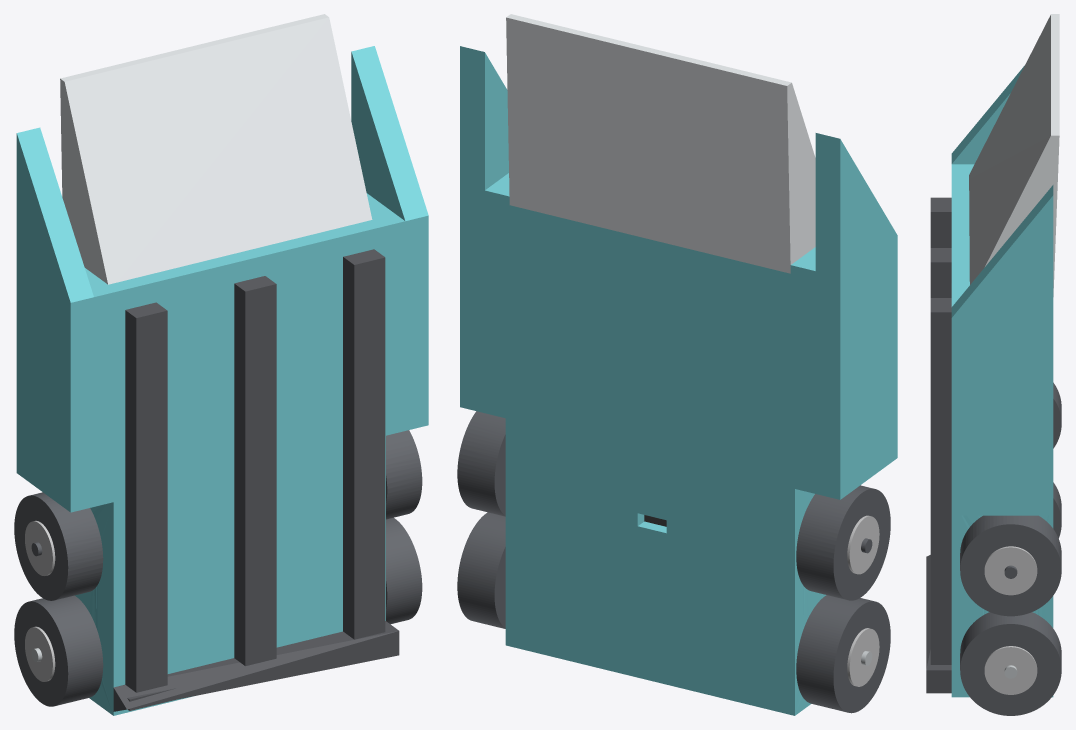
File: bolt.glb
3 views of the same model, side by side, from view 1: azimuth 30°, elevation 25°; view 2: azimuth 150°, elevation 25°; view 3: azimuth 270°, elevation 25° (orthographic). The views are drawn at different scales.
Visible parts, largest first — view 1: chassis, front_flap, rail_a, rail_c, rail_b, cheek_r, cheek_l, rear_bar, wheel_r0, wheel_r1, wheel_l0, wheel_l1 (+2 smaller); view 2: chassis, front_flap, cheek_r, cheek_l, wheel_r0, wheel_r1, wheel_l0, wheel_l1, dt_hub_wheel_r1, dt_hub_wheel_r0; view 3: chassis, cheek_l, front_flap, rail_c, wheel_l1, wheel_l0, dt_hub_wheel_l1, dt_hub_wheel_l0, cheek_r, rear_bar, rail_a, rail_b (+2 smaller).
Boxes of the visible parts, x1,y1,x2,y2 form: chassis: [16, 193, 428, 715]; front_flap: [60, 14, 372, 284]; rail_a: [125, 302, 167, 692]; rail_c: [343, 249, 385, 639]; rail_b: [234, 276, 276, 666]; cheek_r: [16, 127, 93, 432]; cheek_l: [351, 46, 428, 346]; rear_bar: [113, 621, 399, 711]; wheel_r0: [14, 595, 103, 706]; wheel_r1: [14, 492, 103, 600]; wheel_l0: [386, 517, 422, 624]; wheel_l1: [386, 430, 422, 519]; chassis: [460, 173, 897, 715]; front_flap: [506, 14, 815, 273]; cheek_r: [815, 133, 897, 415]; cheek_l: [460, 46, 508, 324]; wheel_r0: [796, 595, 890, 713]; wheel_r1: [796, 485, 890, 600]; wheel_l0: [457, 512, 505, 628]; wheel_l1: [457, 411, 505, 516]; dt_hub_wheel_r1: [847, 515, 879, 574]; dt_hub_wheel_r0: [847, 628, 879, 686]; chassis: [951, 164, 1053, 697]; cheek_l: [951, 185, 1053, 440]; front_flap: [969, 14, 1059, 296]; rail_c: [930, 298, 951, 664]; wheel_l1: [960, 515, 1061, 616]; wheel_l0: [960, 612, 1061, 715]; dt_hub_wheel_l1: [984, 546, 1037, 595]; dt_hub_wheel_l0: [984, 646, 1037, 694]; cheek_r: [951, 65, 1024, 164]; rear_bar: [926, 555, 951, 693]; rail_a: [930, 197, 951, 247]; rail_b: [930, 248, 951, 297].
Bounding box in the file's own units: 94.2 × 146 × 32.
